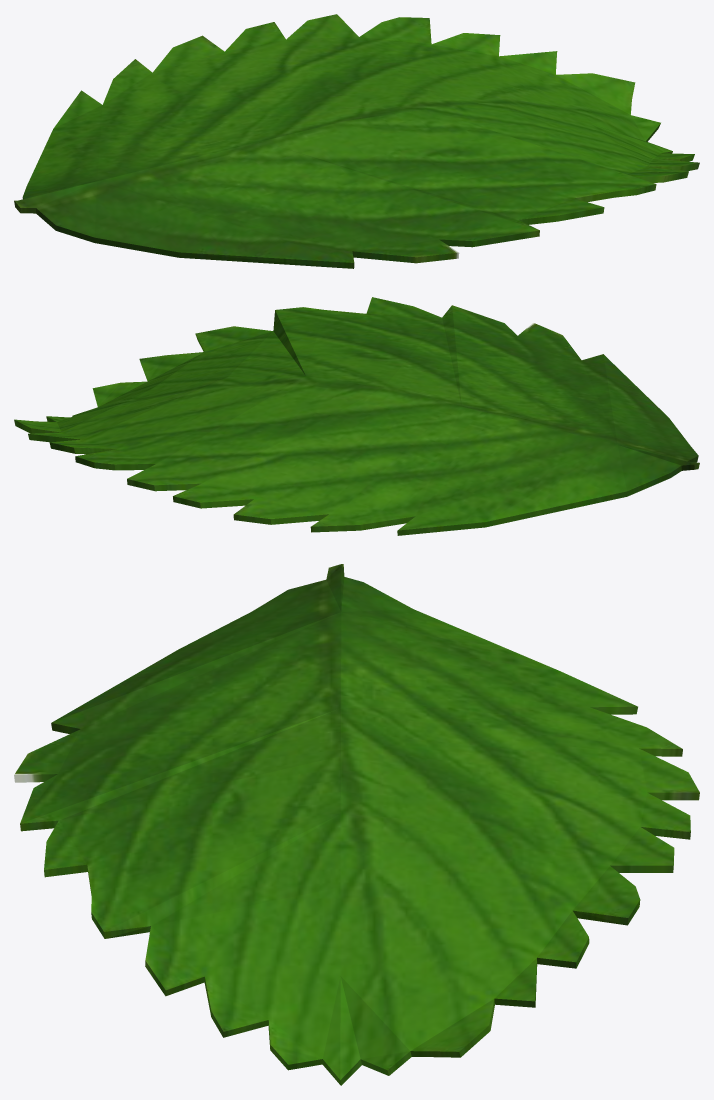
Rendered from leaf4_g2.dae.
3 views of the same model, one above another, from view 1: azimuth 30°, elevation 25°; view 2: azimuth 150°, elevation 25°; view 3: azimuth 270°, elevation 25° (orthographic). The views are drawn at different scales.
Parts seen in each view (by area): view 1: Plane; view 2: Plane; view 3: Plane.
Boxes of the visible parts, x1,y1,x2,y2 form: Plane: (14,14,699,268); Plane: (14,297,699,535); Plane: (14,564,699,1085).
Bounding box in the file's own units: 0.1374 × 0.1018 × 0.0227.
1 material, 1 textured.
